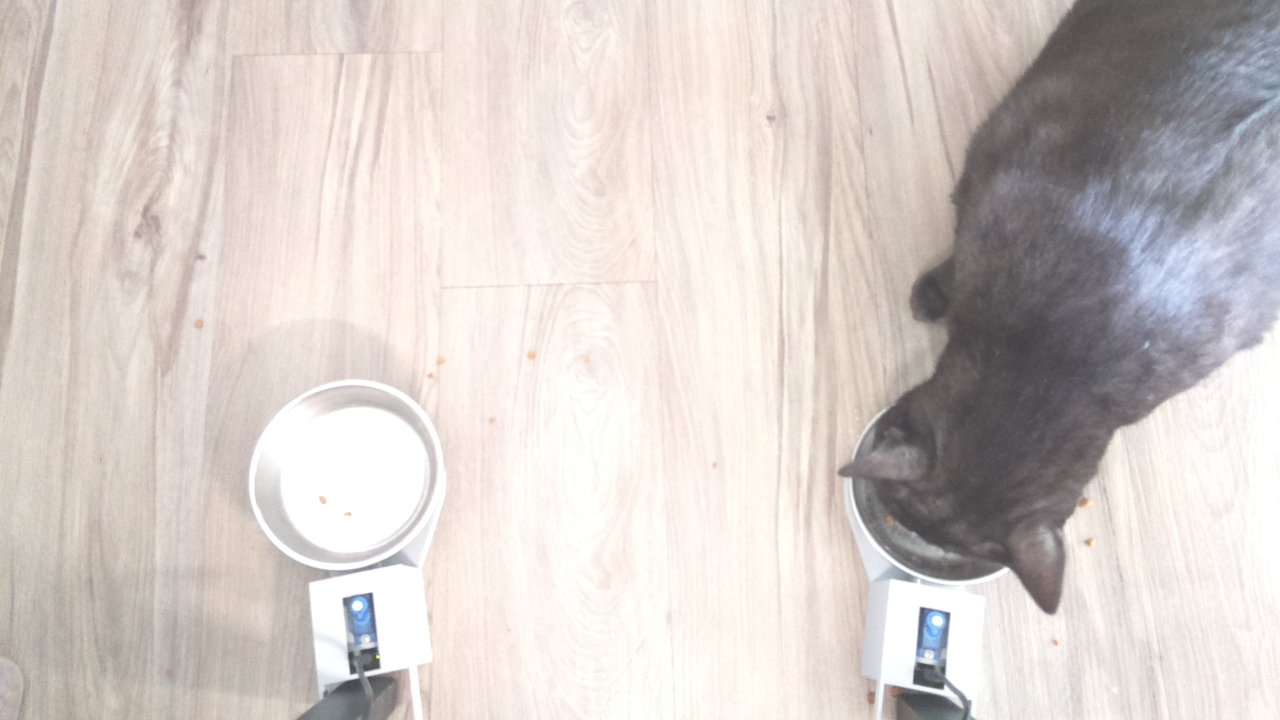open_bowl: (244, 373, 457, 576)
saki_eating: (829, 358, 1125, 619)
